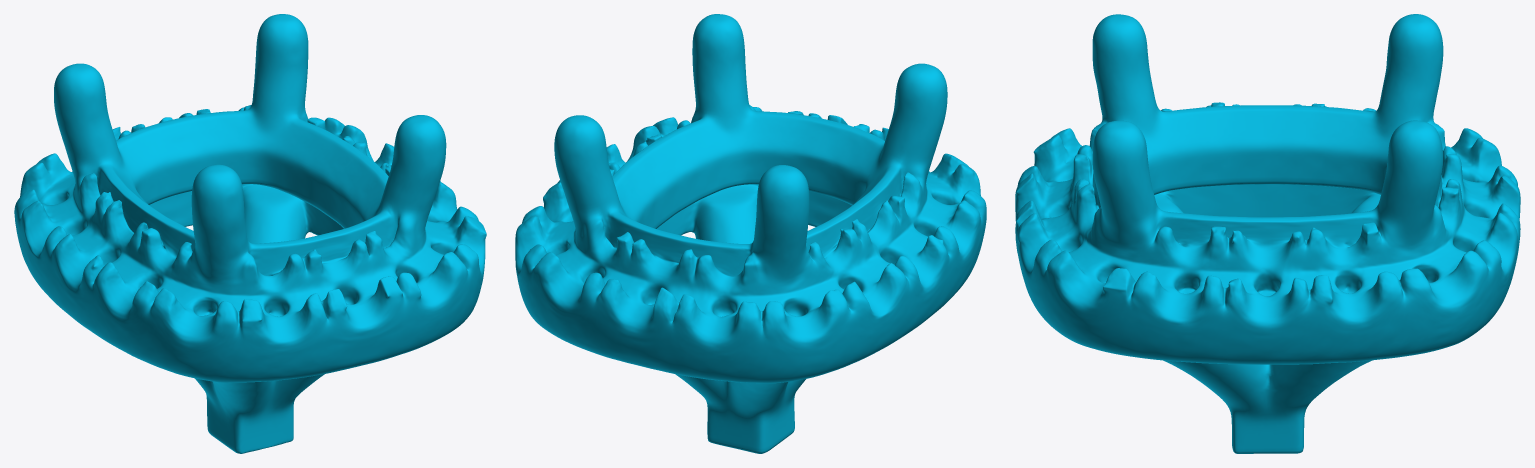
The model's file is Head_Single Halo_Elongated Cushion_0.50ct_Head.glb.
3 renders of one model, left to right at view 1: azimuth 30°, elevation 25°; view 2: azimuth 150°, elevation 25°; view 3: azimuth 270°, elevation 25°, orthographic. The views are drawn at different scales.
Bounding box in the file's own units: 0.00659 × 0.006 × 0.00746.
